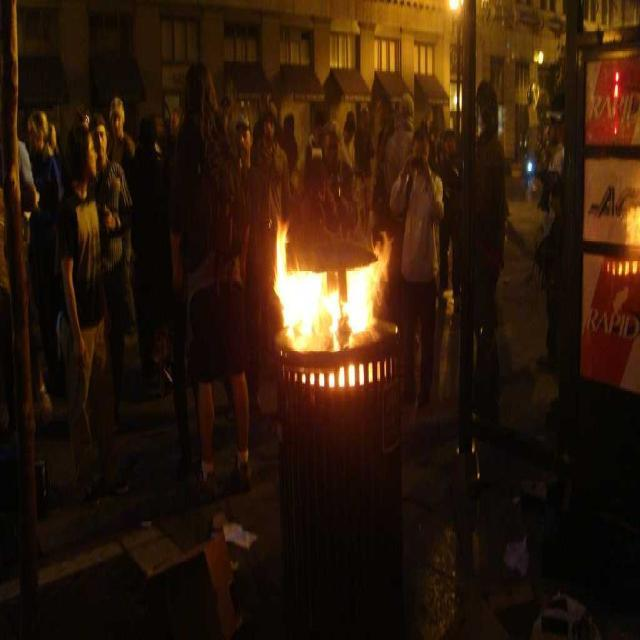Fire: (282, 272, 323, 337), (349, 268, 373, 329), (436, 340, 436, 342)
